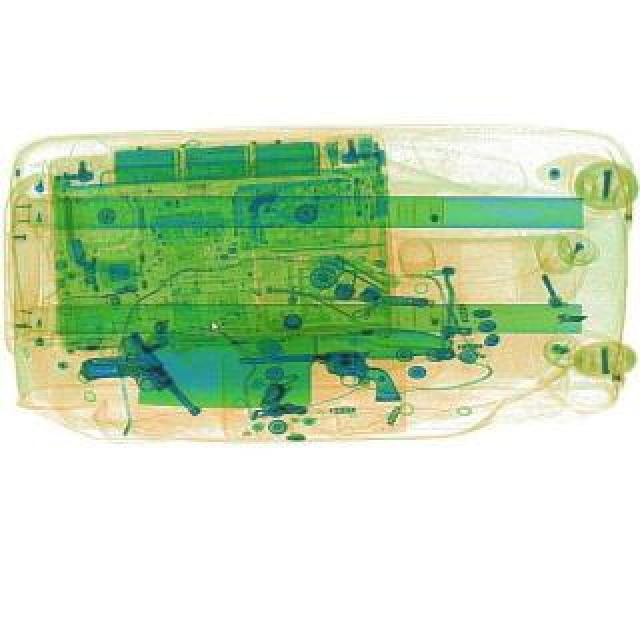gun: (70, 322, 208, 450), (234, 346, 404, 408)
knife: (128, 324, 454, 416)
